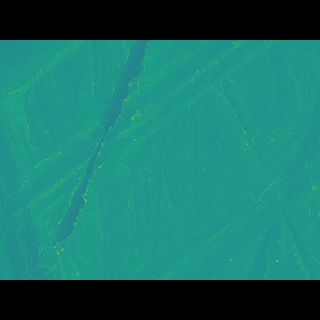Loch: (0, 70, 288, 219), (74, 115, 320, 249), (44, 69, 153, 229), (0, 68, 85, 118)
